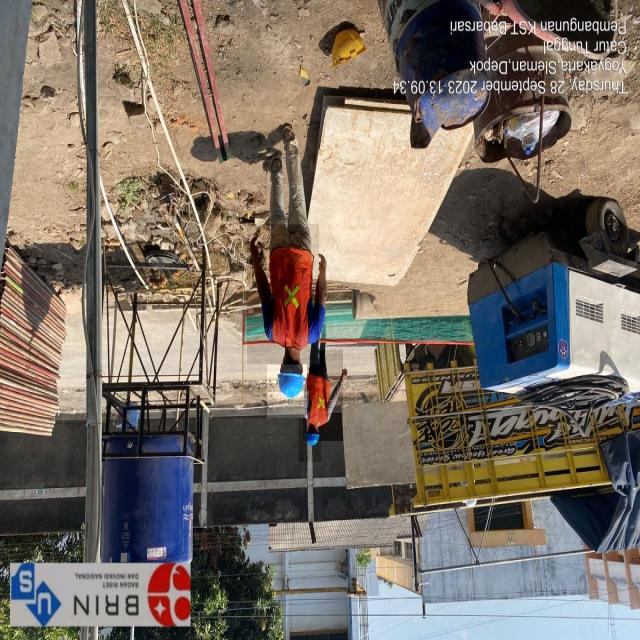Helmet: (267, 352, 307, 418), (298, 412, 322, 462)
Safety Vest: (247, 224, 319, 364), (303, 350, 343, 441)
